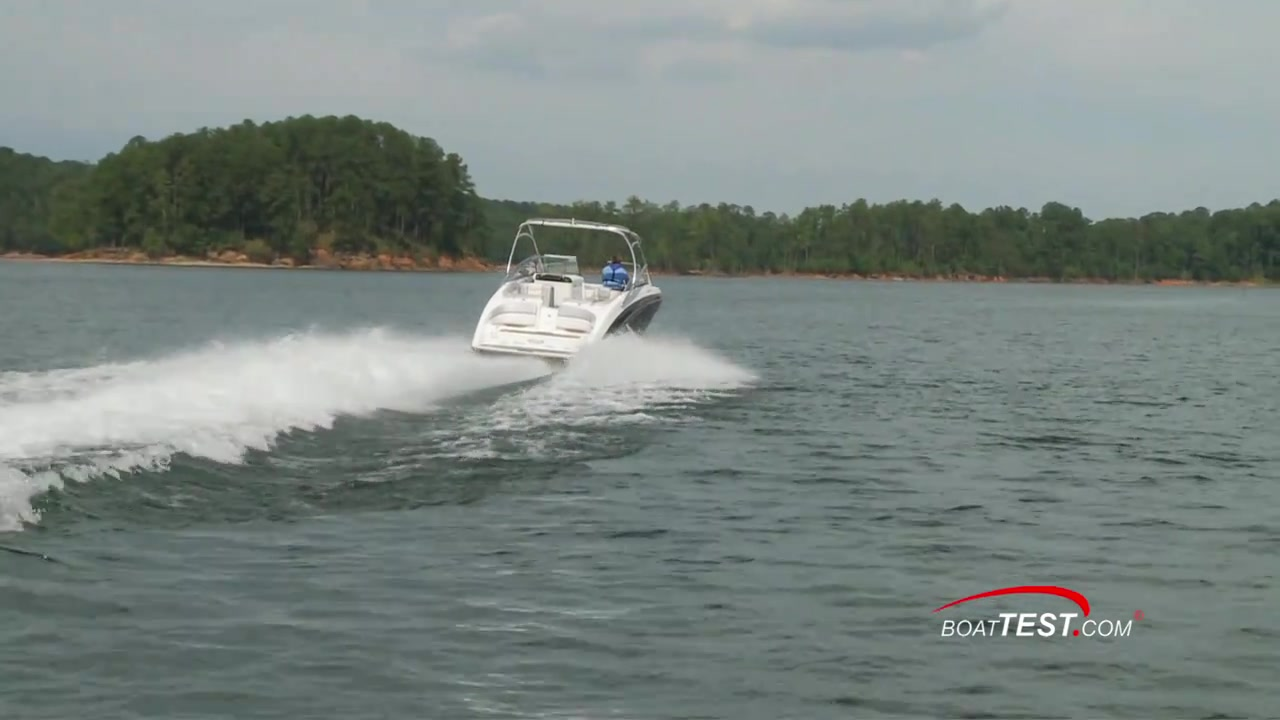boat: (471, 208, 674, 367)
